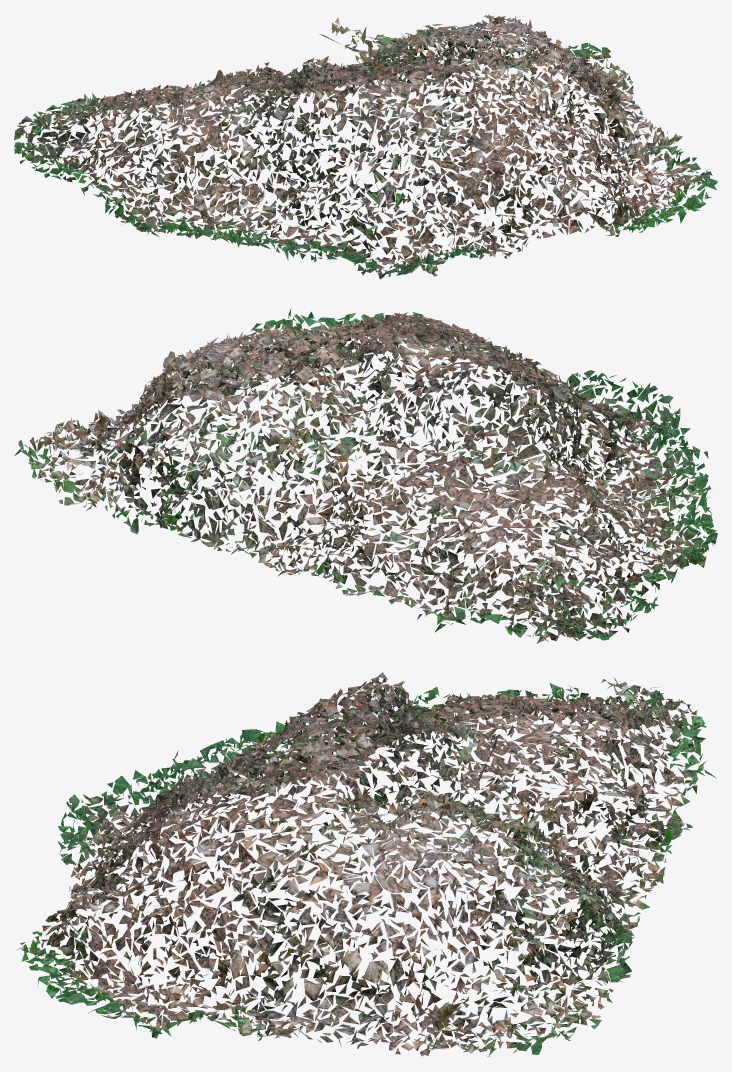
The model's file is branch_heap.glb.
The picture shows the model from 3 angles, top to bottom: view 1: azimuth 30°, elevation 25°; view 2: azimuth 150°, elevation 25°; view 3: azimuth 270°, elevation 25°; orthographic projection. The views are drawn at different scales.
Visible parts, largest first — view 1: Model_material0_0, Model_material1_0, Model_material2_0, Model_material3_0; view 2: Model_material2_0, Model_material3_0, Model_material1_0, Model_material0_0; view 3: Model_material1_0, Model_material2_0, Model_material3_0, Model_material0_0.
Part boxes in pixels (x1,y1,x2,y2): Model_material0_0: (22, 16, 712, 274); Model_material1_0: (16, 15, 716, 279); Model_material2_0: (20, 16, 717, 275); Model_material3_0: (14, 14, 714, 276); Model_material2_0: (29, 311, 712, 643); Model_material3_0: (22, 308, 717, 640); Model_material1_0: (14, 312, 713, 641); Model_material0_0: (21, 315, 716, 641); Model_material1_0: (21, 677, 705, 1054); Model_material2_0: (23, 672, 705, 1055); Model_material3_0: (16, 681, 716, 1057); Model_material0_0: (20, 679, 702, 1056).
Size of the model in its own units: 2.61 by 0.5959 by 2.19.
Materials: 4 (4 with a texture image).
